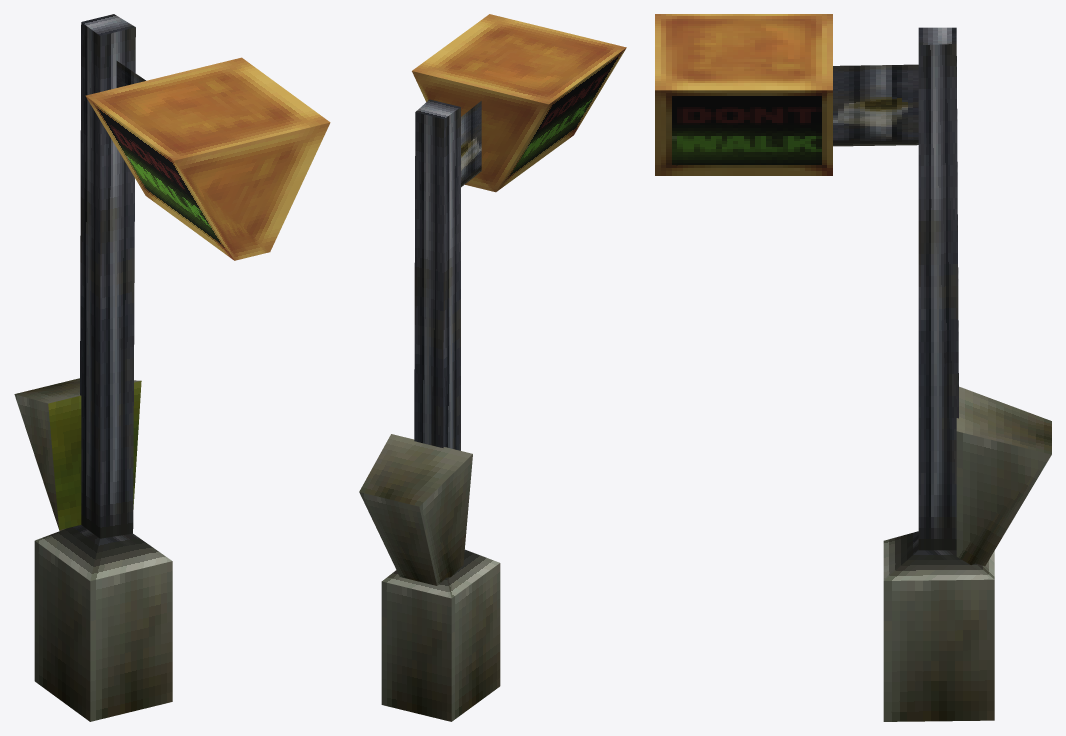
3 renders of one model, left to right at view 1: azimuth 30°, elevation 25°; view 2: azimuth 150°, elevation 25°; view 3: azimuth 270°, elevation 25°, orthographic. The views are drawn at different scales.
Parts seen in each view (by area): view 1: prim003-Line01.001; view 2: prim003-Line01.001; view 3: prim003-Line01.001.
Part boxes in pixels (box(x1,y1,x2,y2)): prim003-Line01.001: box(14, 14, 330, 721); prim003-Line01.001: box(359, 14, 626, 721); prim003-Line01.001: box(655, 14, 1051, 721).
Bounding box in the file's own units: 57 × 232 × 125.
Materials: 3 (3 with a texture image).
